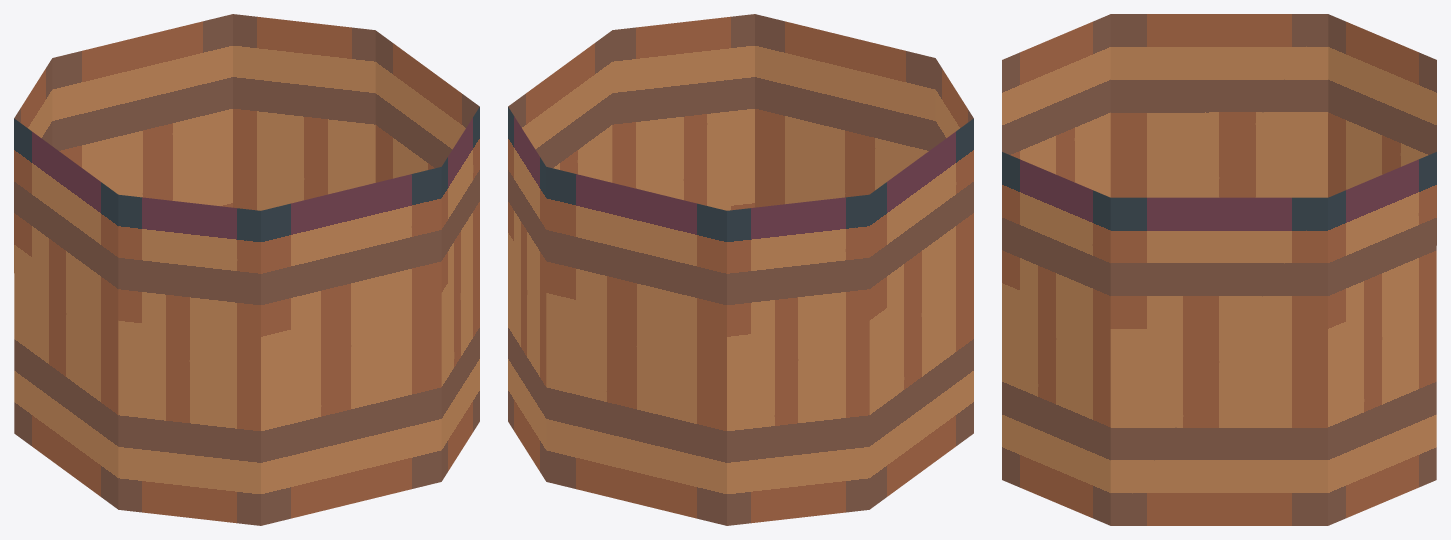
The picture shows the model from 3 angles, left to right: view 1: azimuth 30°, elevation 25°; view 2: azimuth 150°, elevation 25°; view 3: azimuth 270°, elevation 25°; orthographic projection. The views are drawn at different scales.
Size of the model in its own units: 0.75 by 0.6251 by 0.7501.
1 material, 1 textured.
